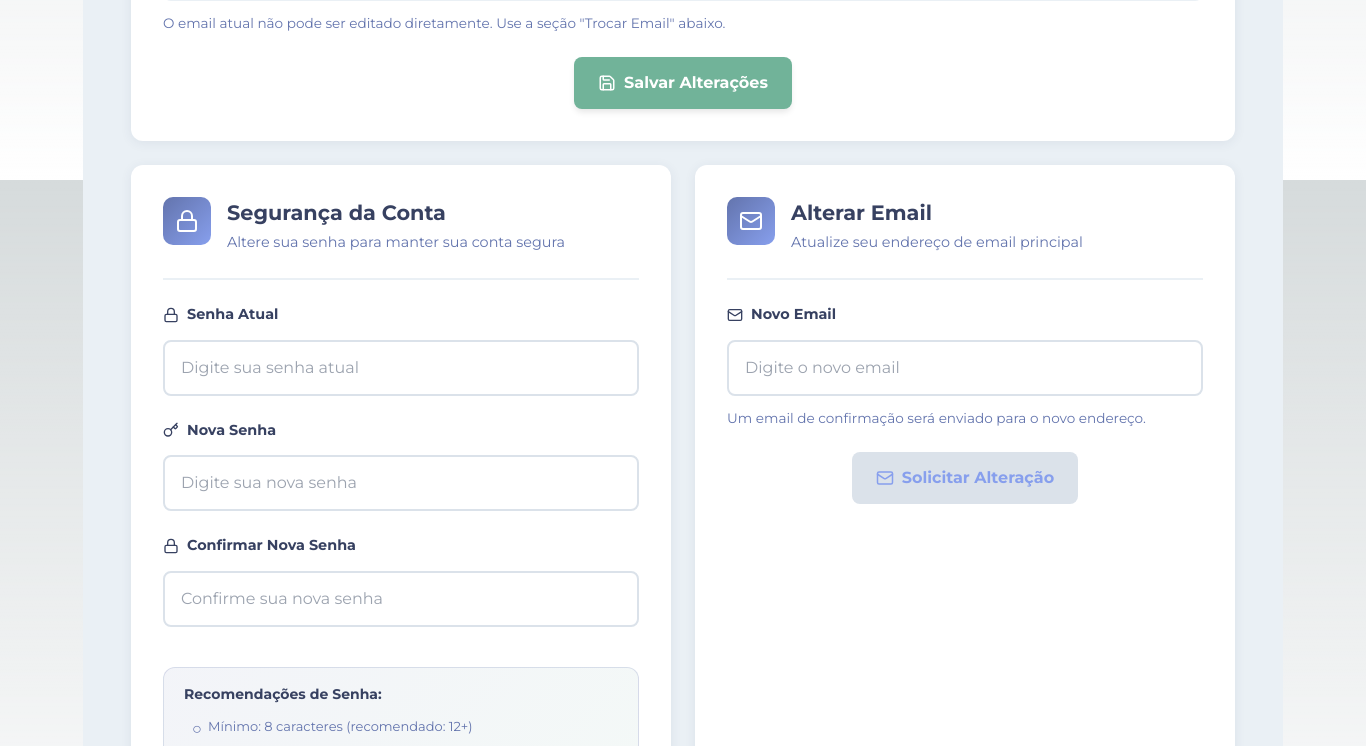
Test case: UserEdit › deve exibir erro quando usuário não está autenticado para troca de email
(page scrolled)
Type "new@example.com" into the field labelled "Novo Email" at (965, 368), box [727,340,1203,396]
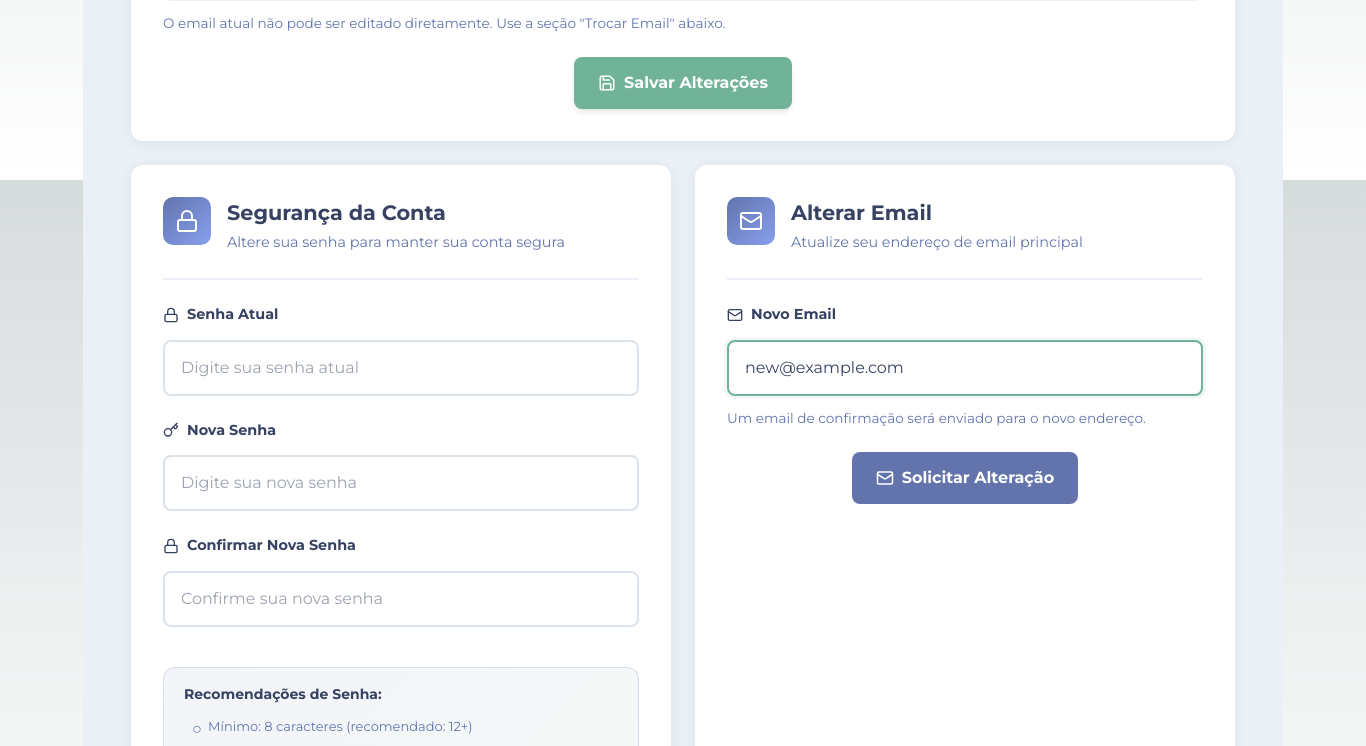
Click the button "Solicitar Alteração" at (965, 478), box [852,452,1078,504]
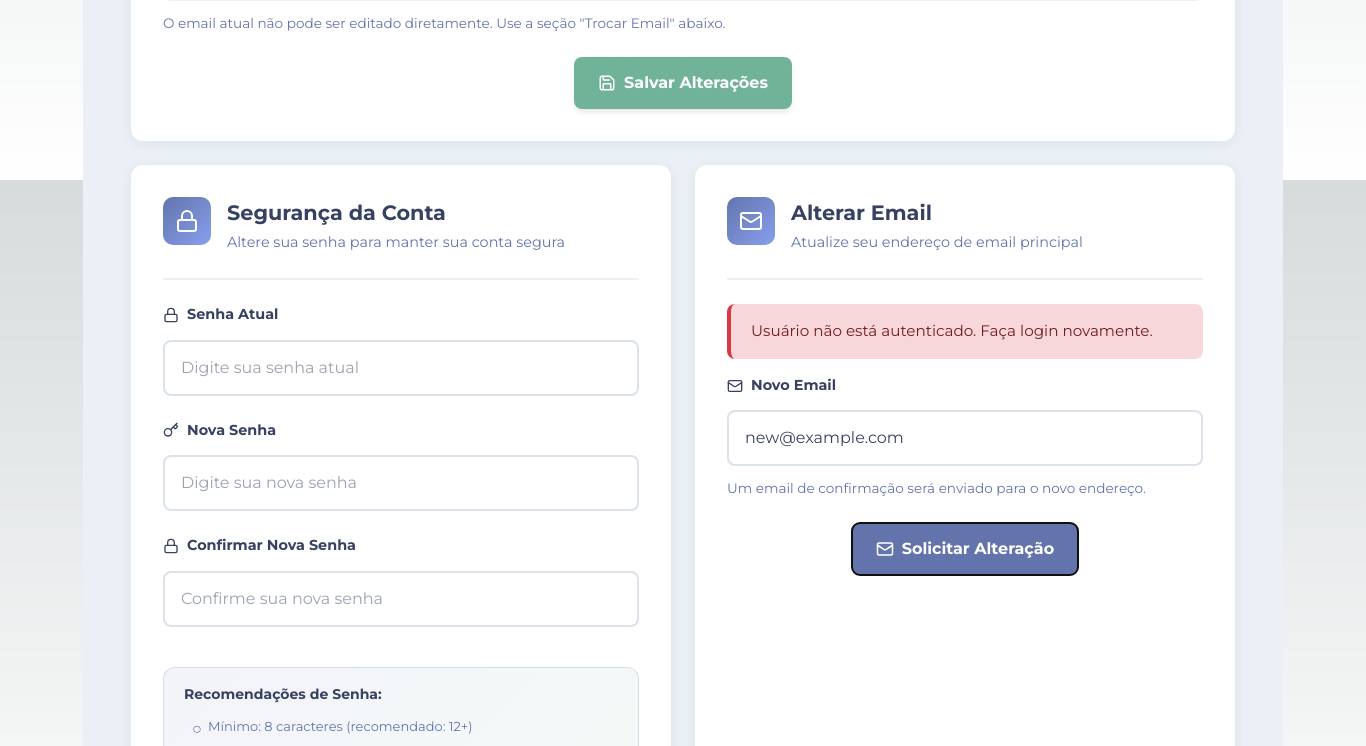
Now the text "Usuário não está autenticado. Faça login novamente." is shown, box [727,304,1203,359]
